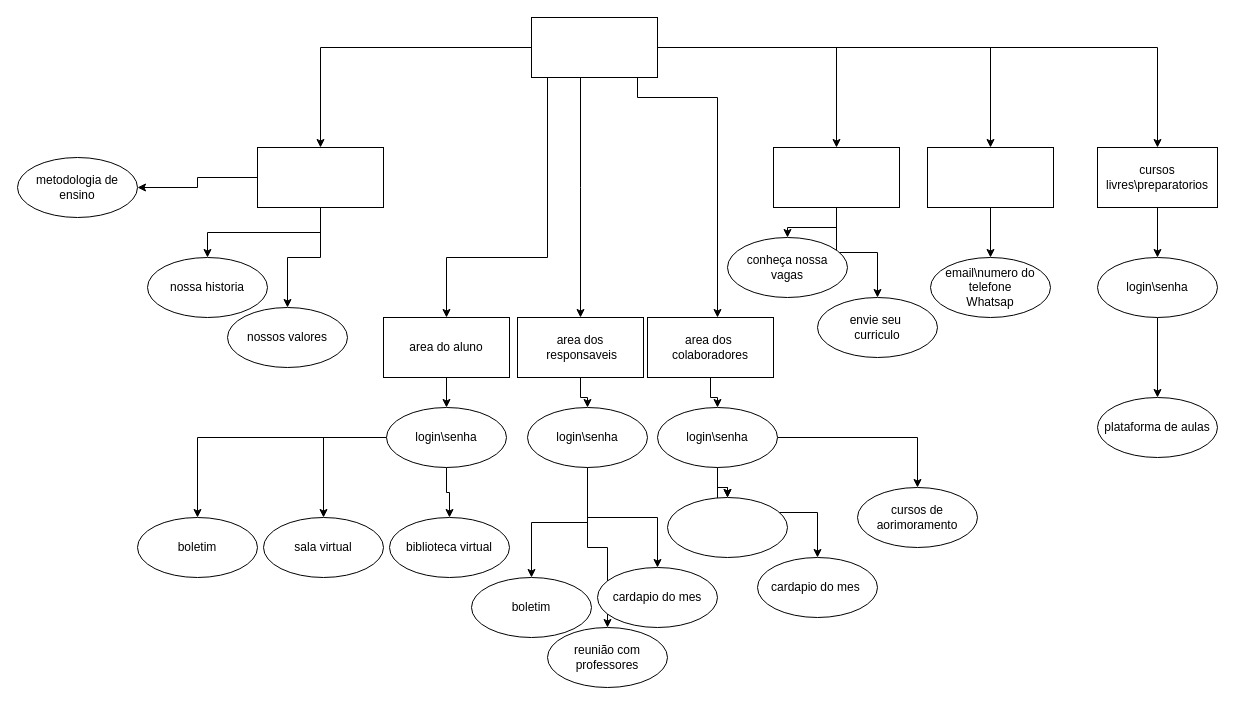
Image size: 1235x705. Some labels were removed from this diagram. Each missing label, with the centre of its shape:
"contra cheque" goes at point 727,527.
"entre em contato conosco" goes at point 990,177.
"HOME" goes at point 594,47.
"quem somos" goes at point 320,177.
"trabalhe conosco" goes at point 836,177.
